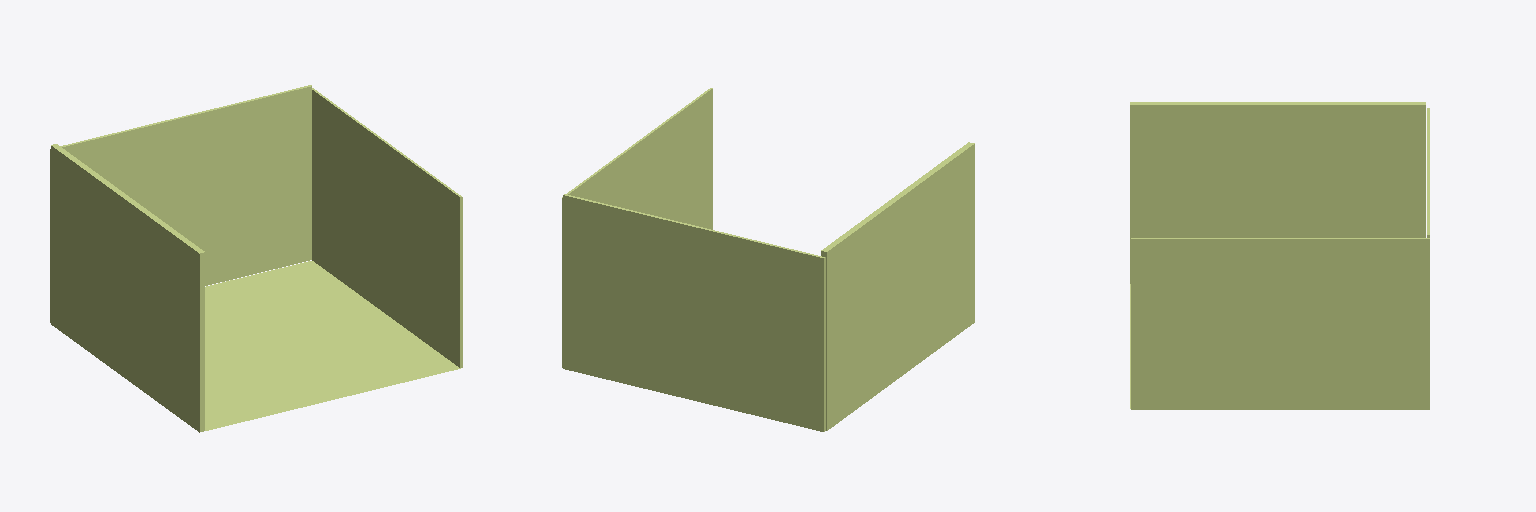
The model's file is cs24_set.obj.
3 renders of one model, left to right at view 1: azimuth 30°, elevation 25°; view 2: azimuth 150°, elevation 25°; view 3: azimuth 270°, elevation 25°, orthographic.
Parts seen in each view (by area): view 1: Plane001; view 2: Plane001; view 3: Plane001.
Boxes of the visible parts, box(x1,y1,x2,y2) form: Plane001: box(50, 85, 462, 432); Plane001: box(562, 88, 974, 431); Plane001: box(1130, 102, 1429, 409).
Bounding box in the file's own units: 144 × 93.42 × 142.